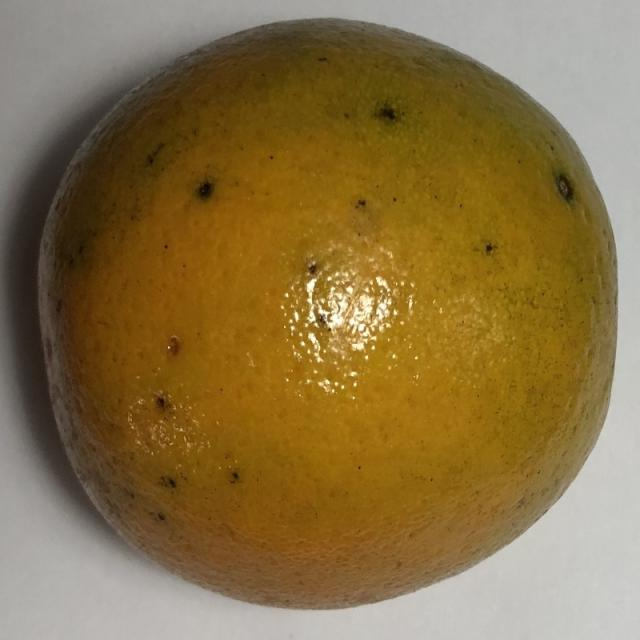blackspot: (14, 14, 628, 636)
